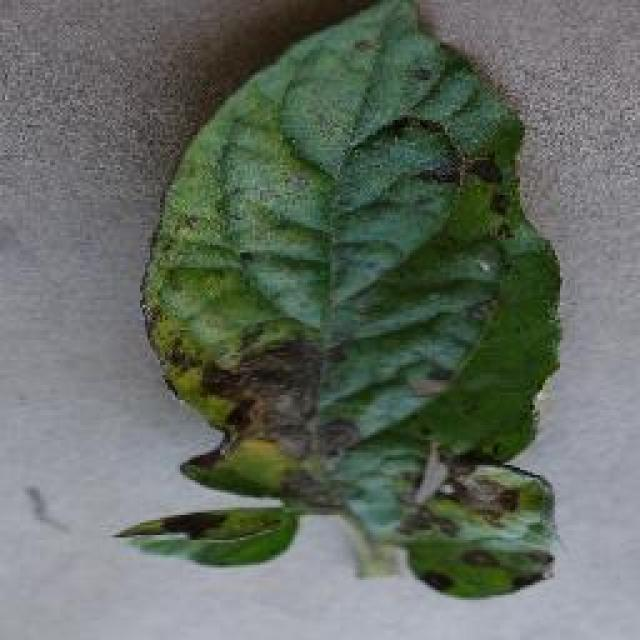Tomato Early blight leaf: (135, 1, 563, 581)
